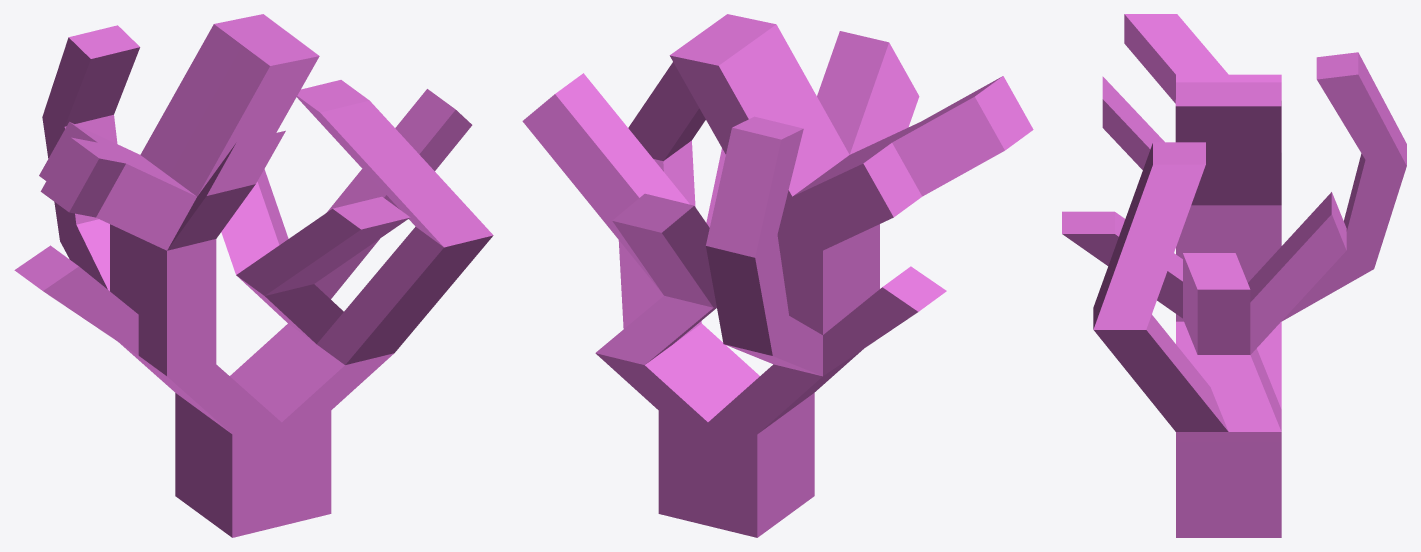
The model's file is sango.fbx.
The picture shows the model from 3 angles, left to right: view 1: azimuth 30°, elevation 25°; view 2: azimuth 150°, elevation 25°; view 3: azimuth 270°, elevation 25°; orthographic projection. The views are drawn at different scales.
Visible parts, largest first — view 1: Cube; view 2: Cube; view 3: Cube.
Boxes of the visible parts, box(x1,y1,x2,y2) form: Cube: box(14, 14, 493, 537); Cube: box(522, 14, 1033, 537); Cube: box(1062, 14, 1406, 537).
Size of the model in its own units: 288 by 288 by 210.
